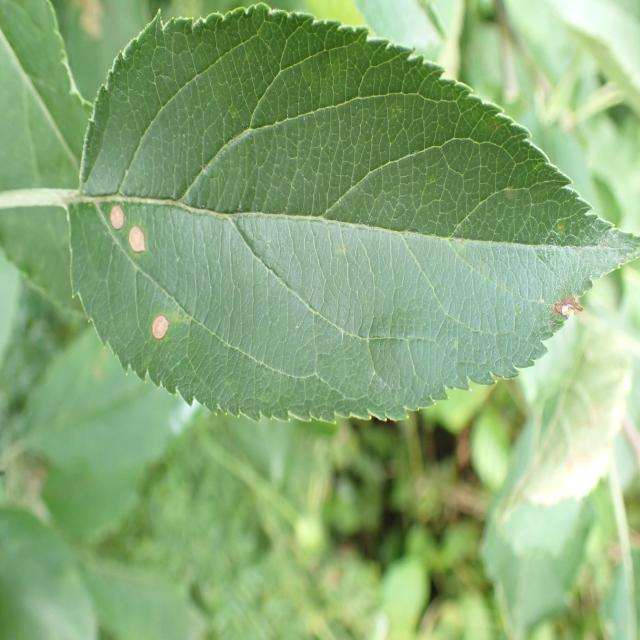Black Rot: (545, 269, 597, 350), (94, 185, 128, 244), (143, 311, 178, 363), (124, 214, 153, 263)
